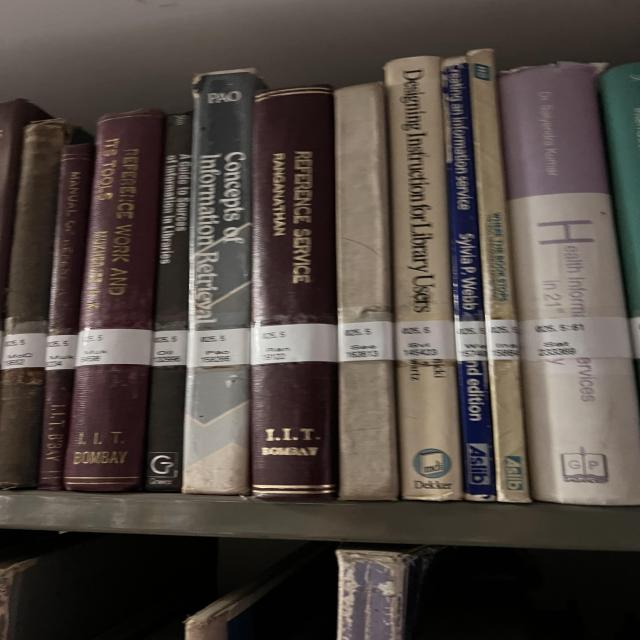Book: (498, 62, 638, 505), (65, 110, 165, 491), (250, 86, 337, 499), (385, 56, 463, 500), (182, 69, 263, 494), (467, 49, 530, 502), (335, 82, 398, 500), (0, 119, 70, 489), (442, 58, 495, 500), (38, 144, 95, 490), (145, 112, 192, 491)
Label: (520, 318, 632, 361), (252, 324, 337, 365), (75, 329, 152, 366), (187, 329, 250, 368), (395, 320, 455, 360), (338, 321, 393, 361), (2, 332, 47, 370), (485, 319, 520, 360), (152, 330, 188, 366), (455, 321, 487, 361), (45, 335, 78, 370)
